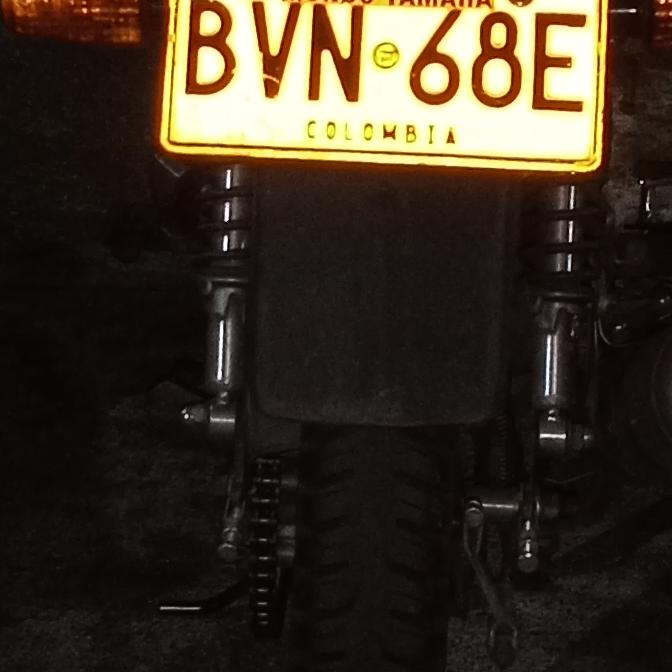plates: (148, 0, 609, 175)
